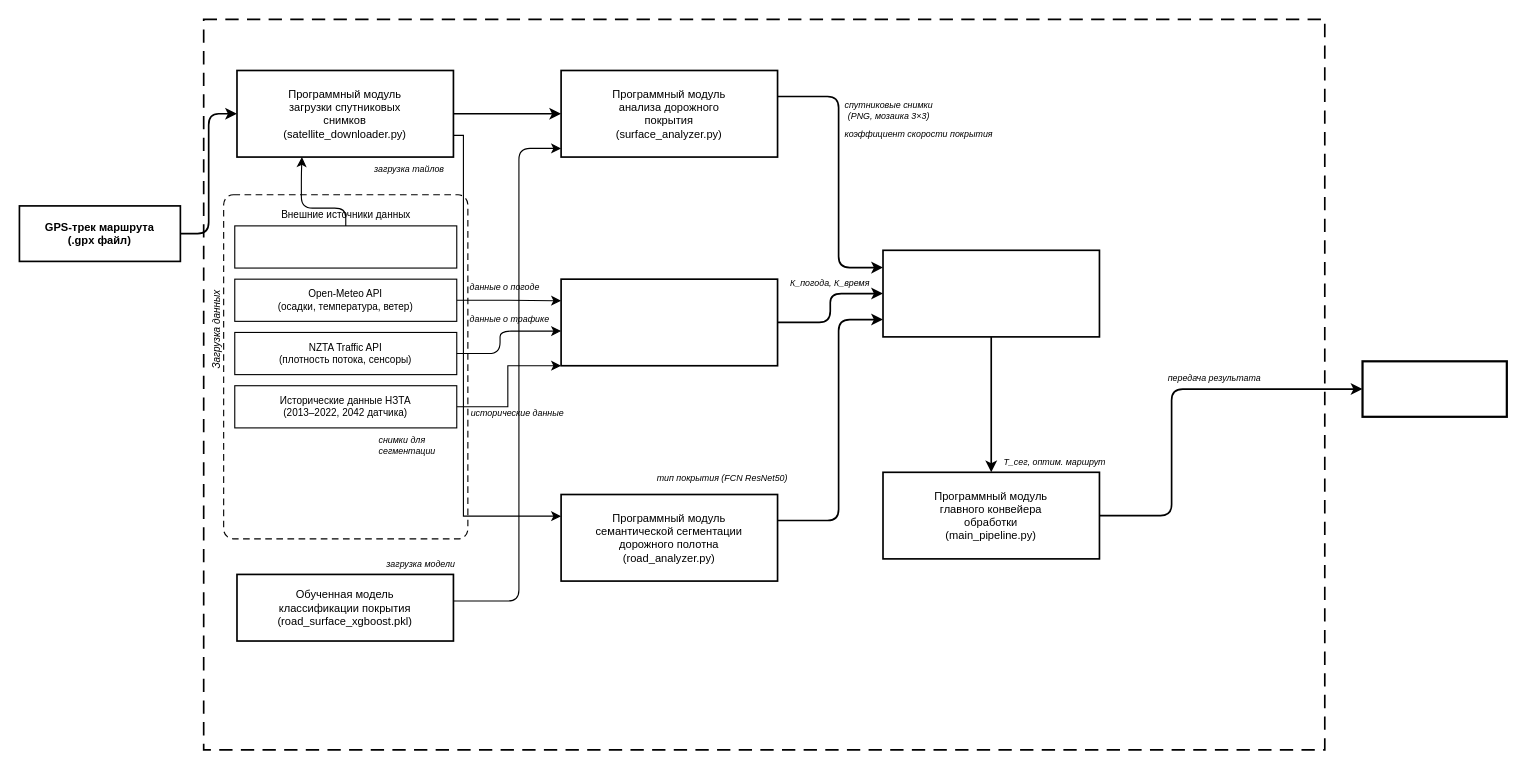
Image size: 1527x770. Some labels were removed from this diagram. Here are the shapes that lost their labels. From the top down, the box of each, then its label:
(234, 225, 457, 268): LINZ API (спутниковые тайлы, zoom 18–19)
(882, 249, 1100, 337): Программный модуль оптимизации маршрута и расчёта времени (route_optimizer.py)
(560, 278, 778, 366): Программный модуль получения данных о погоде и трафике (traffic_weather_api.py)
(1361, 360, 1507, 417): Расчётное время прибытия
